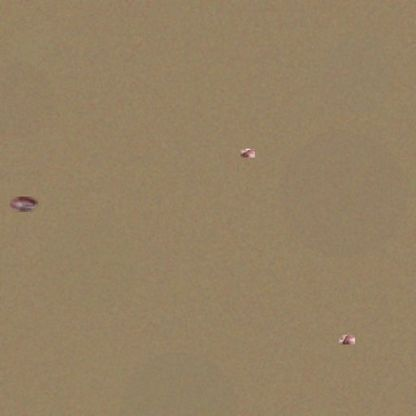rotten: (10, 197, 38, 212)
sprouted: (339, 335, 355, 344), (240, 149, 255, 158)
